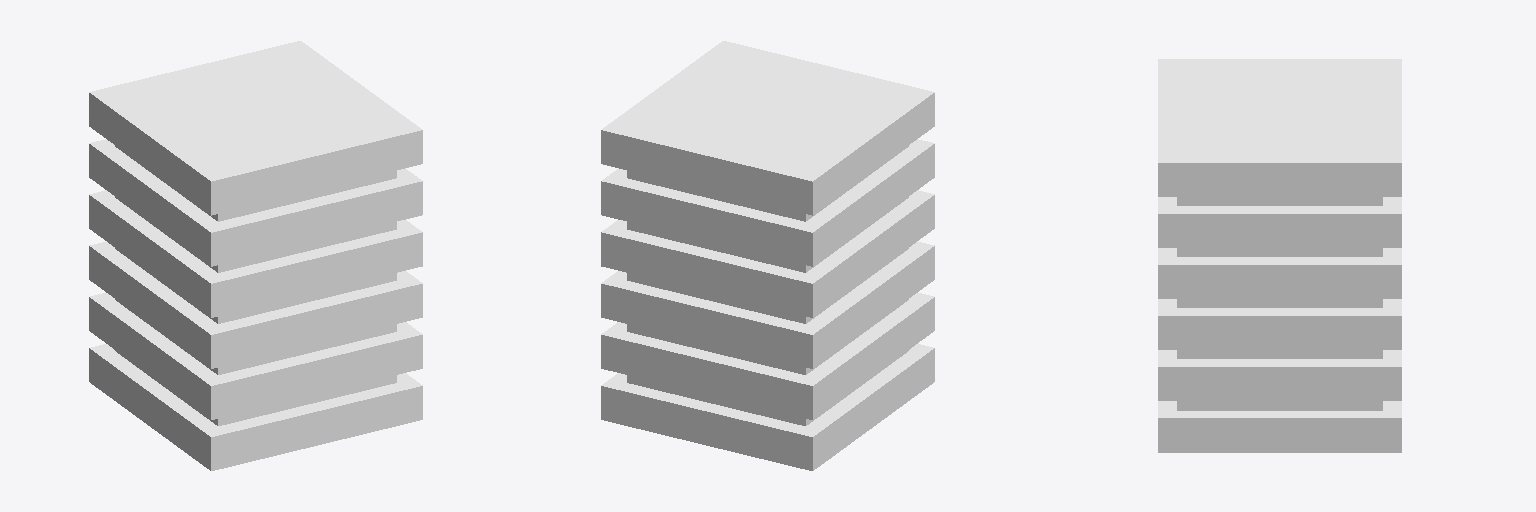
The model's file is bricks.obj.
3 renders of one model, left to right at view 1: azimuth 30°, elevation 25°; view 2: azimuth 150°, elevation 25°; view 3: azimuth 270°, elevation 25°, orthographic.
Parts seen in each view (by area): view 1: object 1; view 2: object 1; view 3: object 1.
Part boxes in pixels (x1,y1,x2,y2): object 1: (89,41,422,470); object 1: (601,41,934,470); object 1: (1158,59,1401,452).
Bounding box in the file's own units: 1.3 × 1.7 × 1.3.